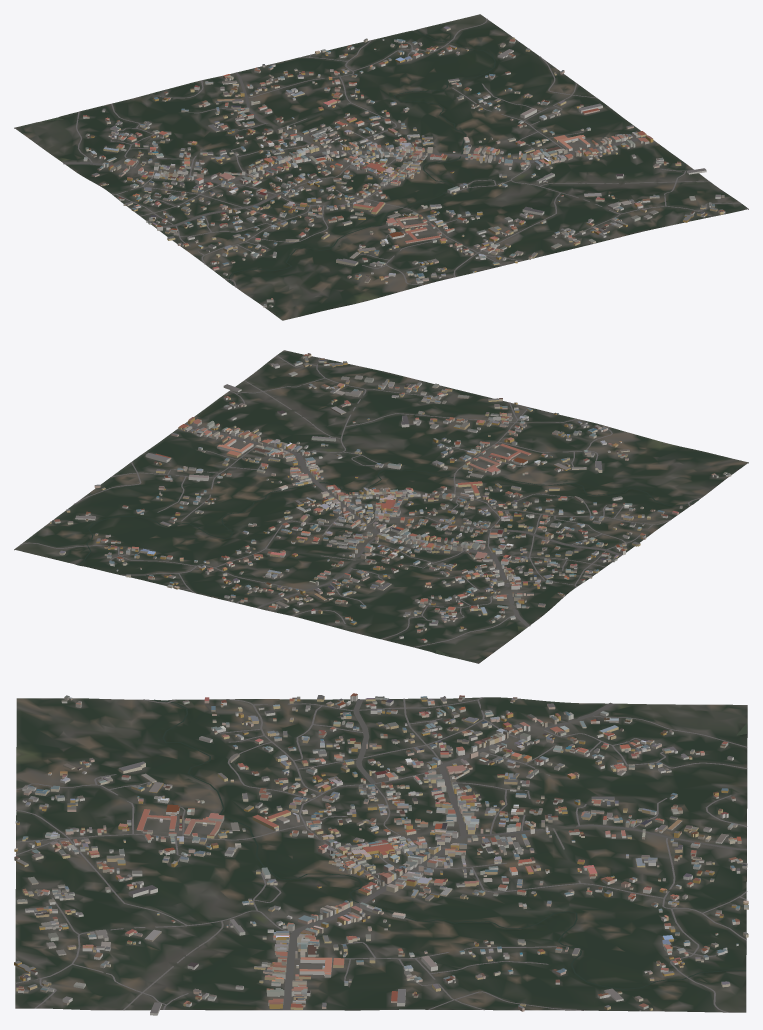
3 views of the same model, one above another, from view 1: azimuth 30°, elevation 25°; view 2: azimuth 150°, elevation 25°; view 3: azimuth 270°, elevation 25° (orthographic). The views are drawn at different scales.
Visible parts, largest first — view 1: ground, buildings, roads, water; view 2: ground, buildings, roads, water; view 3: ground, buildings, roads, water.
Boxes of the visible parts, bbox=[...] form: ground: bbox=[14, 14, 748, 320]; buildings: bbox=[83, 26, 725, 307]; roads: bbox=[63, 18, 741, 287]; water: bbox=[42, 29, 495, 284]; ground: bbox=[14, 350, 748, 663]; buildings: bbox=[50, 353, 731, 642]; roads: bbox=[20, 355, 702, 647]; water: bbox=[77, 469, 697, 656]; ground: bbox=[15, 697, 747, 1012]; buildings: bbox=[14, 693, 748, 1015]; roads: bbox=[15, 697, 747, 1012]; water: bbox=[154, 699, 746, 989].
Size of the model in its own units: 1432 by 29.08 by 1410.
